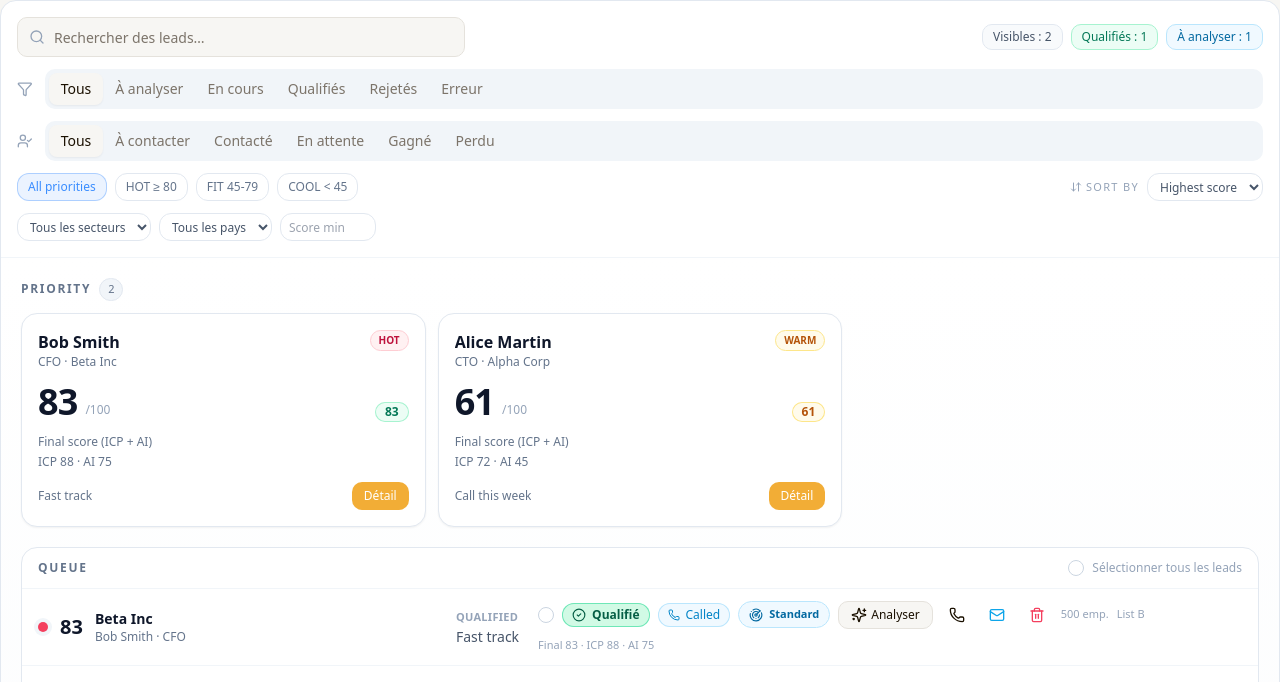
Test: LeadsTable › shows "No leads found" when search has no match
Type "zzz-no-match" into the field with placeholder "Rechercher des leads…" at point(241, 37), box [17,17,465,57]
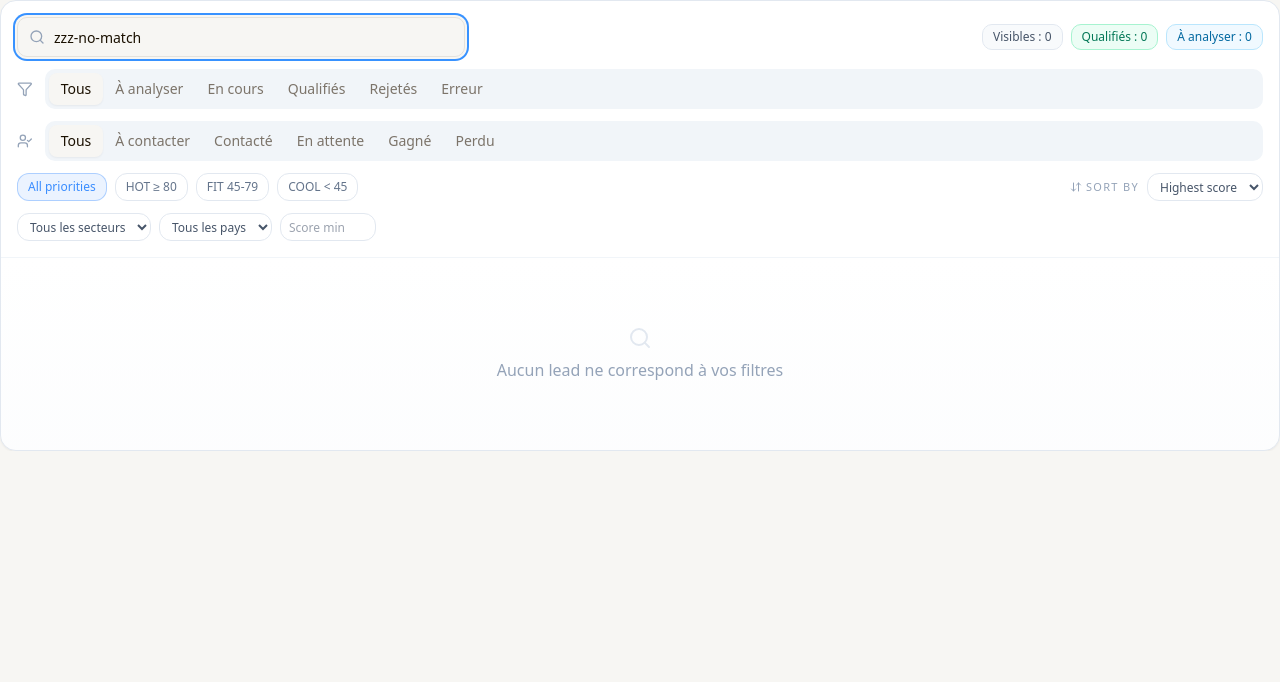
Check: the text "Aucun lead ne correspond à vos filtres" is shown, box [497,326,783,381]
